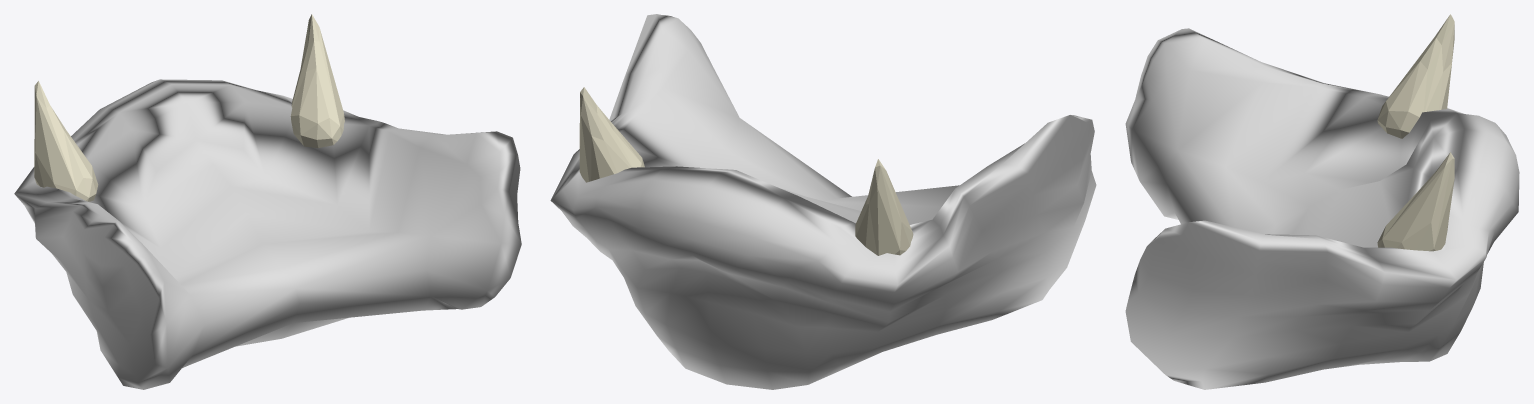
Rendered from OrcJaw5.fbx.
3 renders of one model, left to right at view 1: azimuth 30°, elevation 25°; view 2: azimuth 150°, elevation 25°; view 3: azimuth 270°, elevation 25°, orthographic. The views are drawn at different scales.
Visible parts, largest first — view 1: Jaw, teeth2; view 2: Jaw, teeth2; view 3: Jaw, teeth2.
Part boxes in pixels (left/top/right/bottom): Jaw: left=14, top=79, right=521, bottom=389; teeth2: left=34, top=14, right=344, bottom=201; Jaw: left=550, top=14, right=1096, bottom=389; teeth2: left=579, top=87, right=913, bottom=255; Jaw: left=1125, top=28, right=1519, bottom=389; teeth2: left=1377, top=14, right=1454, bottom=251.
Bounding box in the file's own units: 0.1627 × 0.0939 × 0.1306.
